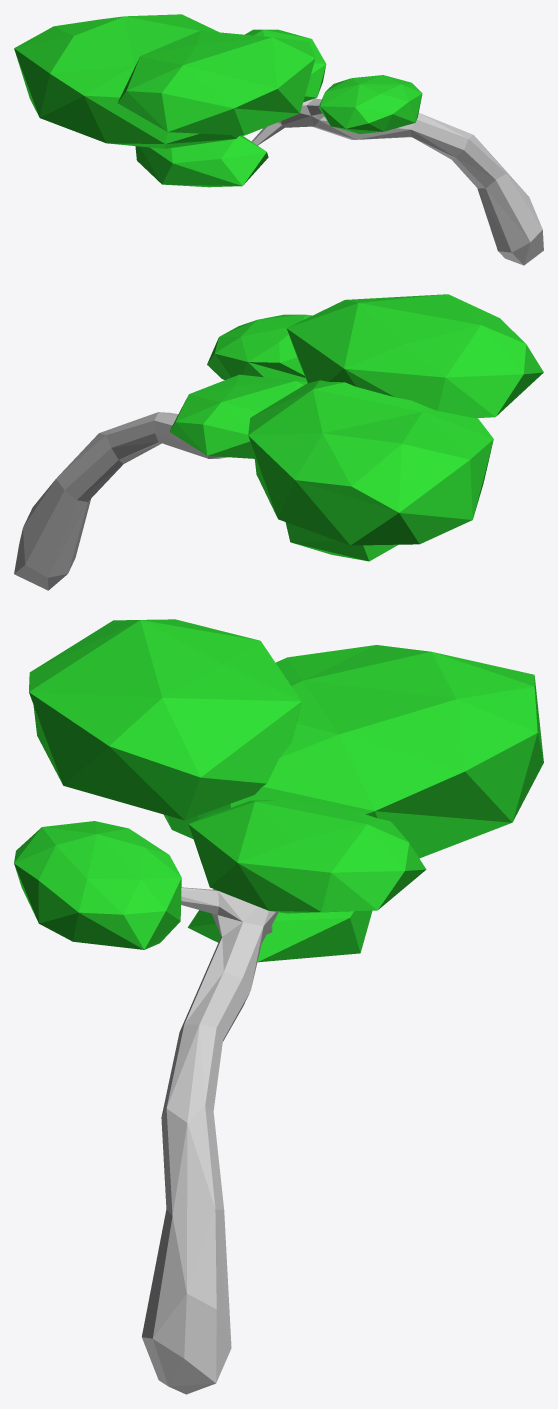
The model's file is tree3.obj.
3 renders of one model, top to bottom at view 1: azimuth 30°, elevation 25°; view 2: azimuth 150°, elevation 25°; view 3: azimuth 270°, elevation 25°, orthographic. The views are drawn at different scales.
Visible parts, largest first — view 1: Icosphere, Icosphere.003, Cube, Icosphere.001, Icosphere.002, Icosphere.004; view 2: Icosphere.003, Icosphere, Cube, Icosphere.004, Icosphere.002, Icosphere.001; view 3: Icosphere.003, Icosphere, Cube, Icosphere.004, Icosphere.002, Icosphere.001.
Part boxes in pixels (x1,y1,x2,y2): Icosphere: [118, 30, 315, 135]; Icosphere.003: [14, 14, 239, 148]; Cube: [251, 98, 543, 265]; Icosphere.001: [135, 135, 268, 187]; Icosphere.002: [318, 75, 422, 133]; Icosphere.004: [245, 29, 326, 102]; Icosphere.003: [248, 380, 493, 545]; Icosphere: [286, 294, 543, 418]; Cube: [14, 412, 226, 590]; Icosphere.004: [169, 374, 307, 458]; Icosphere.002: [207, 314, 311, 382]; Icosphere.001: [285, 522, 398, 561]; Icosphere.003: [163, 645, 543, 858]; Icosphere: [29, 619, 301, 820]; Cube: [142, 887, 278, 1394]; Icosphere.004: [188, 799, 426, 913]; Icosphere.002: [14, 821, 181, 949]; Icosphere.001: [188, 910, 372, 962].
Size of the model in its own units: 12.07 by 7.66 by 7.58.
